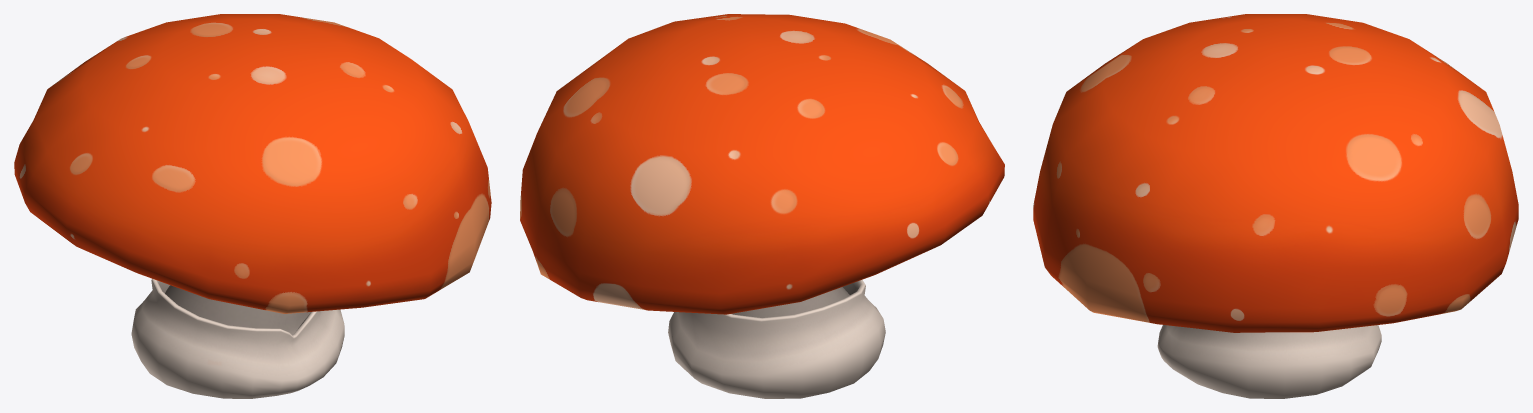
File: Mushroom.fbx
3 views of the same model, side by side, from view 1: azimuth 30°, elevation 25°; view 2: azimuth 150°, elevation 25°; view 3: azimuth 270°, elevation 25° (orthographic). The views are drawn at different scales.
Parts seen in each view (by area): view 1: Mesh; view 2: Mesh; view 3: Mesh.
Part boxes in pixels (left/top/right/bottom): Mesh: left=14, top=14, right=491, bottom=398; Mesh: left=520, top=14, right=1004, bottom=398; Mesh: left=1033, top=14, right=1518, bottom=398.
Bounding box in the file's own units: 141 × 100 × 140.
